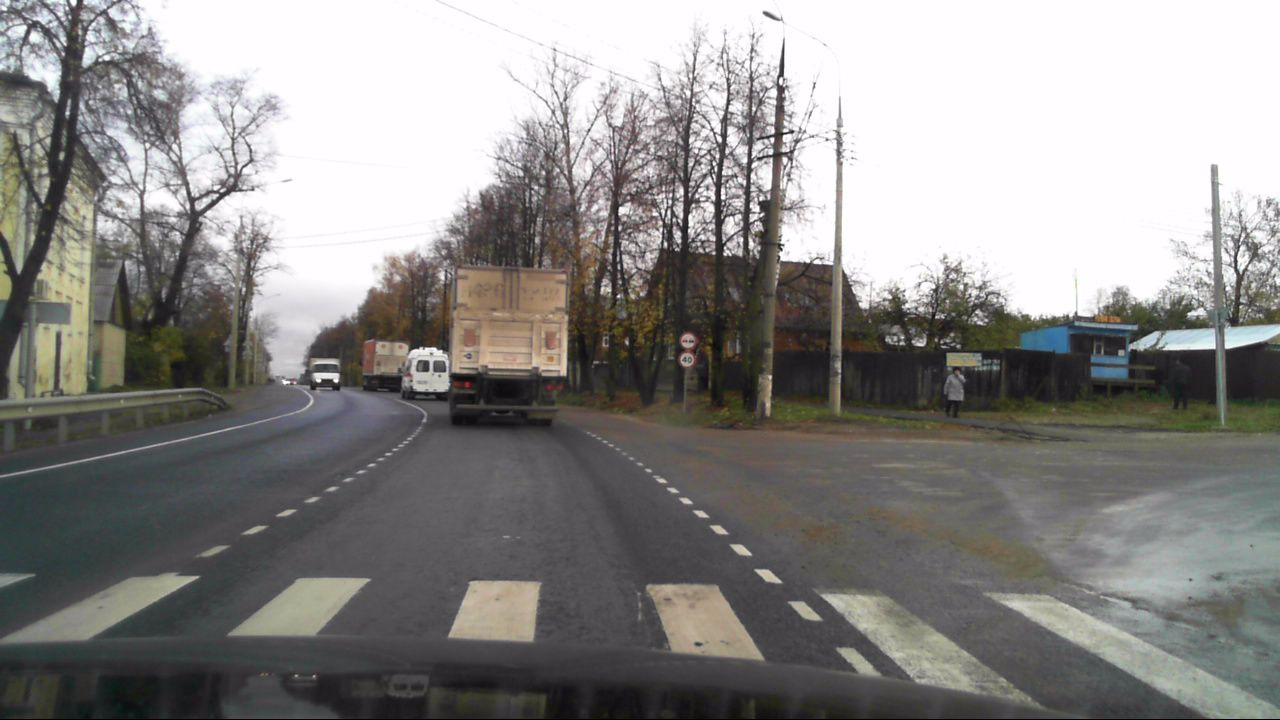speed_warning_40: (678, 352, 695, 368)
